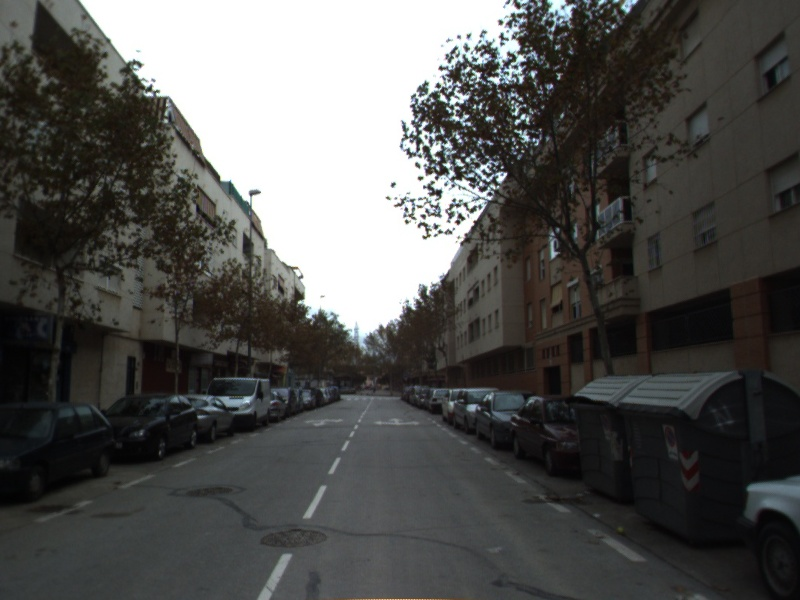STRAIGHT_LEFT_RIGHT: (372, 415, 423, 429)
